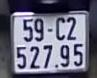2: (28, 43, 41, 72), (66, 16, 79, 42)
5: (15, 44, 28, 71), (22, 17, 35, 43), (72, 42, 84, 68)
7: (40, 43, 55, 70)
9: (58, 43, 71, 69), (34, 16, 45, 43)
C: (54, 17, 67, 41)
